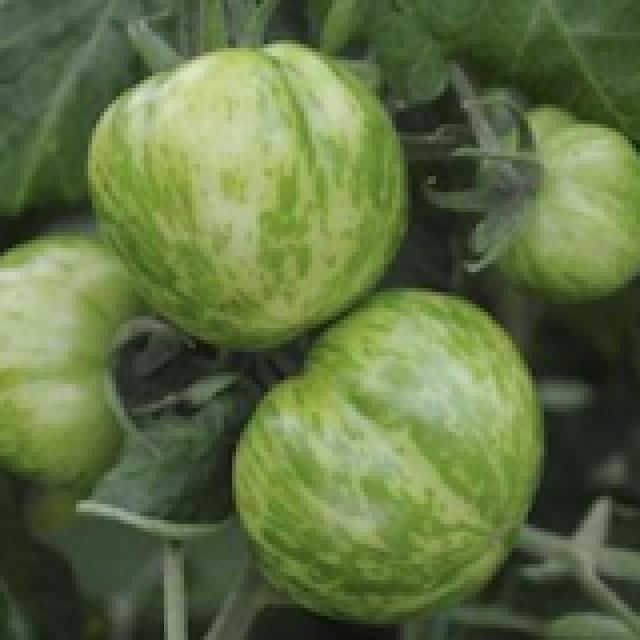yesil: (71, 36, 556, 620)
